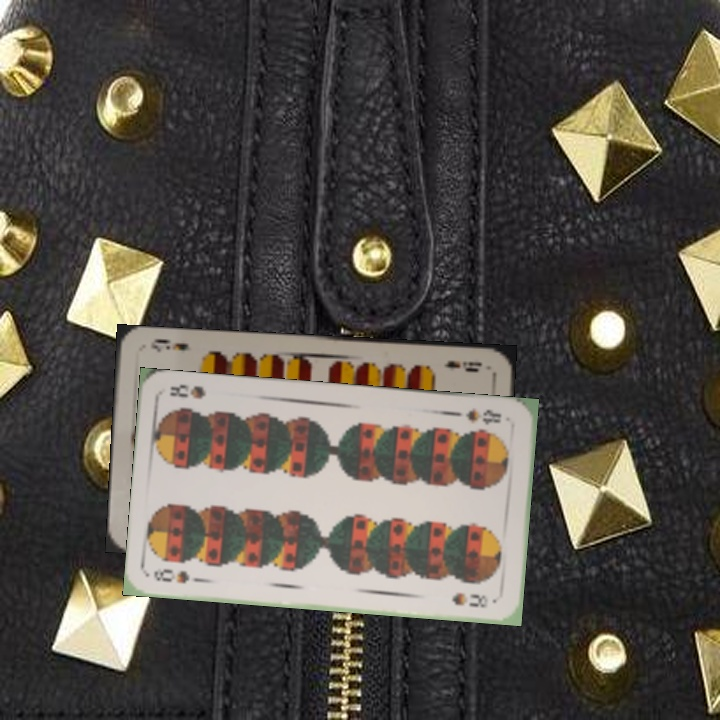E9: (439, 357, 484, 375)
S8: (150, 565, 208, 586), (461, 404, 504, 428)
